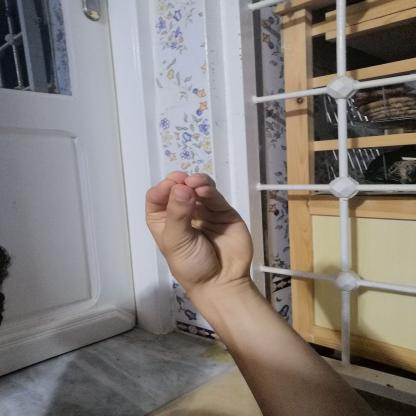HA: (123, 152, 280, 300)
